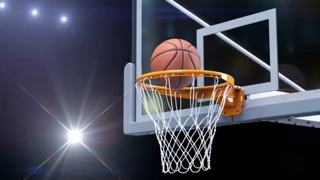MadeBasket: (136, 37, 233, 173)
